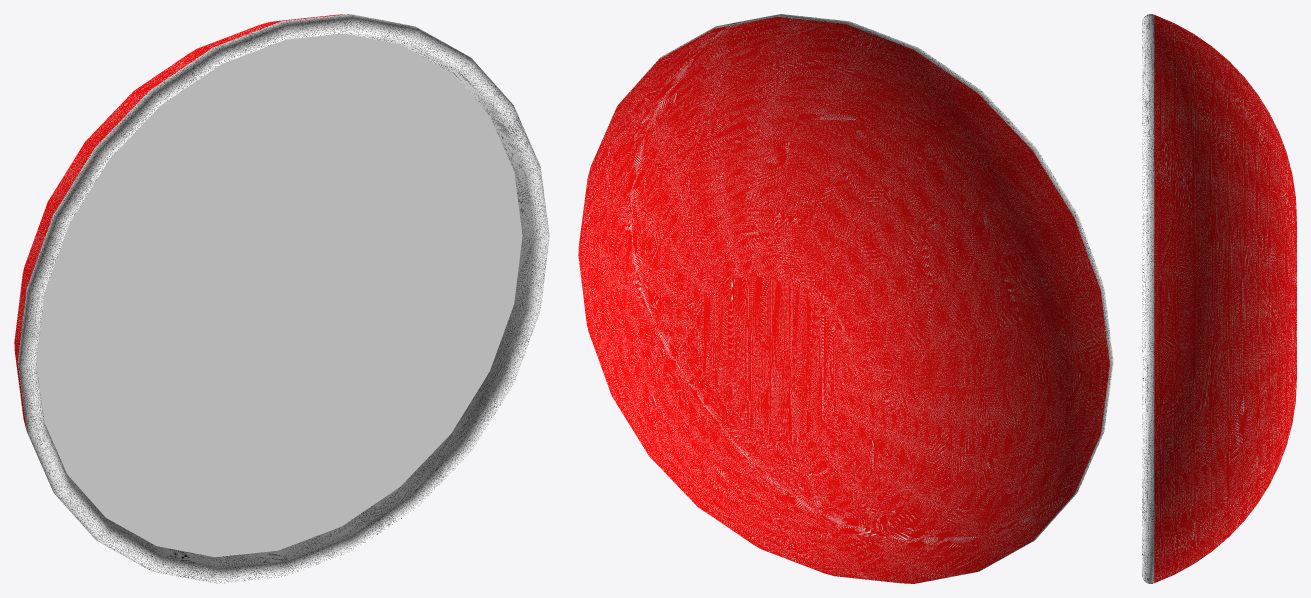
The model's file is model_scale.obj.
The picture shows the model from 3 angles, left to right: view 1: azimuth 30°, elevation 25°; view 2: azimuth 150°, elevation 25°; view 3: azimuth 270°, elevation 25°; orthographic projection. The views are drawn at different scales.
Visible parts, largest first — view 1: mesh1_mesh1-geometry; view 2: mesh1_mesh1-geometry; view 3: mesh1_mesh1-geometry.
Boxes of the visible parts, x1=… form: mesh1_mesh1-geometry: x1=14, y1=14, x2=549, y2=583; mesh1_mesh1-geometry: x1=578, y1=14, x2=1113, y2=583; mesh1_mesh1-geometry: x1=1142, y1=14, x2=1296, y2=583.
Bounding box in the file's own units: 0.1415 × 0.1415 × 0.0383.
